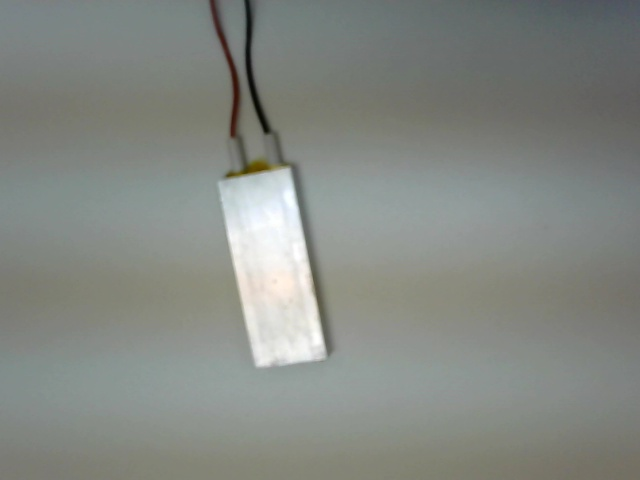heater: (211, 133, 344, 381)
